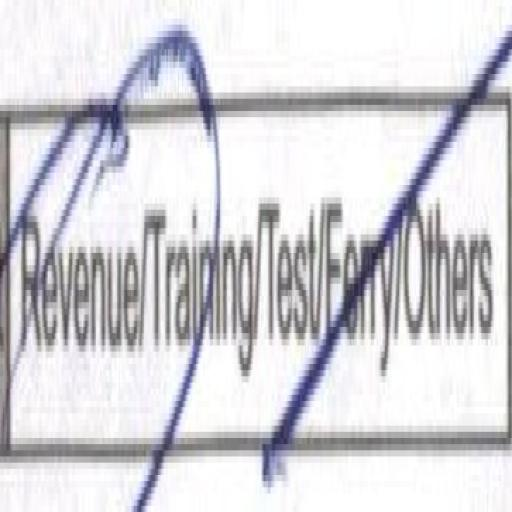check: (9, 52, 139, 494), (143, 37, 254, 477)
